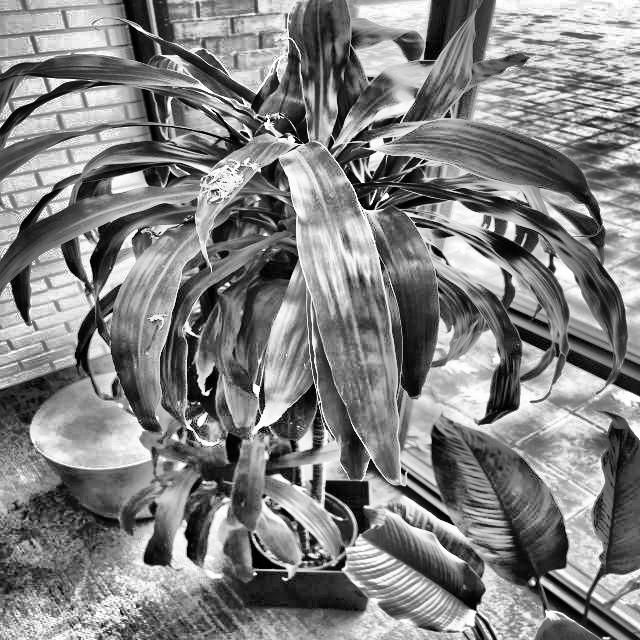plants: (34, 15, 437, 582), (366, 412, 637, 640)
